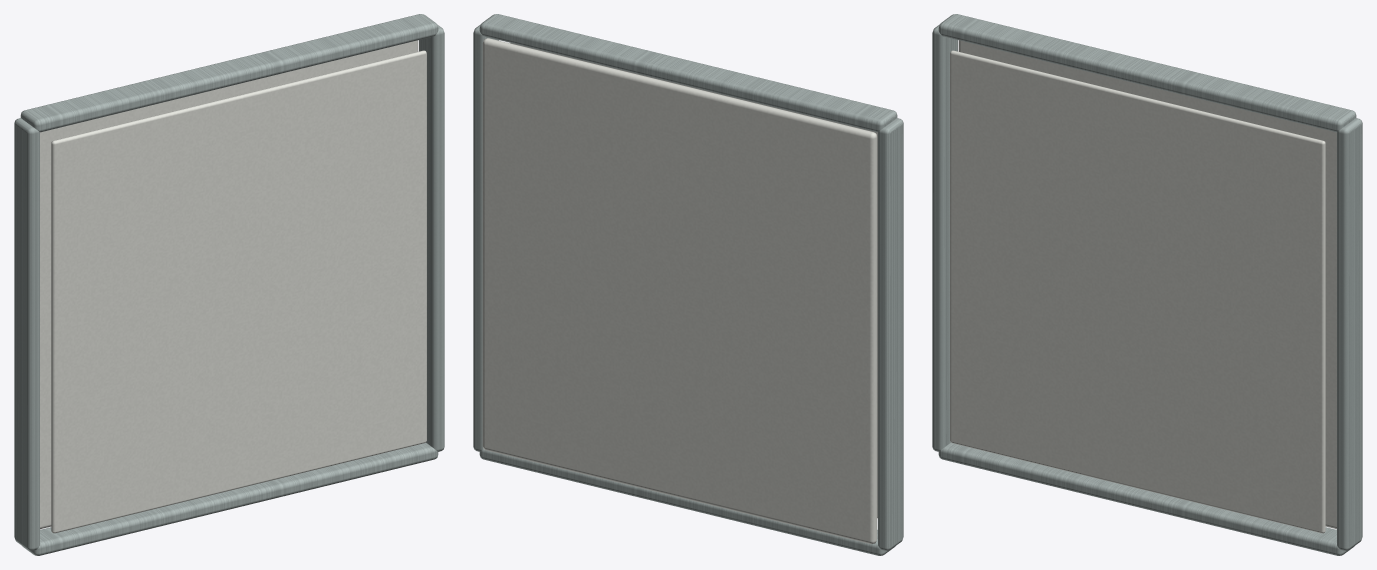
File: detail-fare-map-0.glb
3 views of the same model, side by side, from view 1: azimuth 30°, elevation 25°; view 2: azimuth 150°, elevation 25°; view 3: azimuth 330°, elevation 25° (orthographic).
Visible parts, largest first — view 1: graphic_surface, frame_side (×2), frame_rail (×2), panel_back; view 2: panel_back, frame_side (×2), frame_rail (×2), graphic_surface; view 3: graphic_surface, frame_side (×2), frame_rail (×2), panel_back.
Part boxes in pixels (x1,y1,x2,y2): graphic_surface: [51, 50, 426, 533]; frame_side (×2): [14, 24, 444, 550]; frame_rail (×2): [20, 14, 438, 555]; panel_back: [40, 40, 418, 529]; panel_back: [482, 38, 877, 543]; frame_side (×2): [473, 24, 903, 550]; frame_rail (×2): [479, 14, 897, 555]; graphic_surface: [510, 43, 877, 518]; graphic_surface: [950, 50, 1325, 533]; frame_side (×2): [932, 24, 1362, 550]; frame_rail (×2): [938, 14, 1356, 555]; panel_back: [958, 40, 1336, 529].
Bounding box in the file's own units: 1.14 × 1.14 × 0.1045.
Materials: 2 (2 with a texture image).
